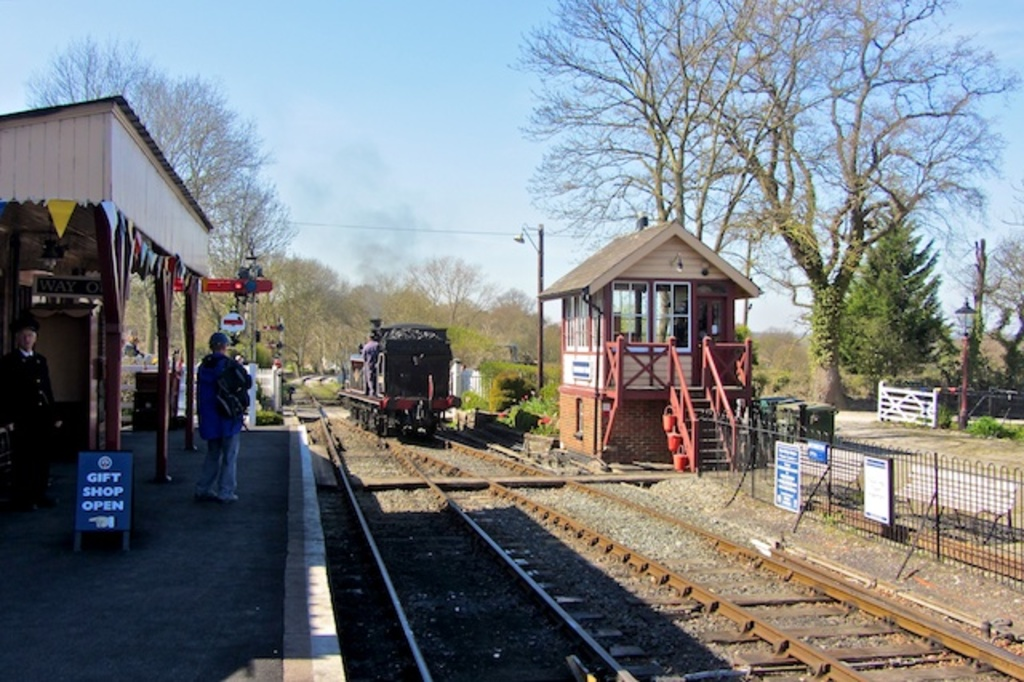train: (336, 316, 464, 440)
